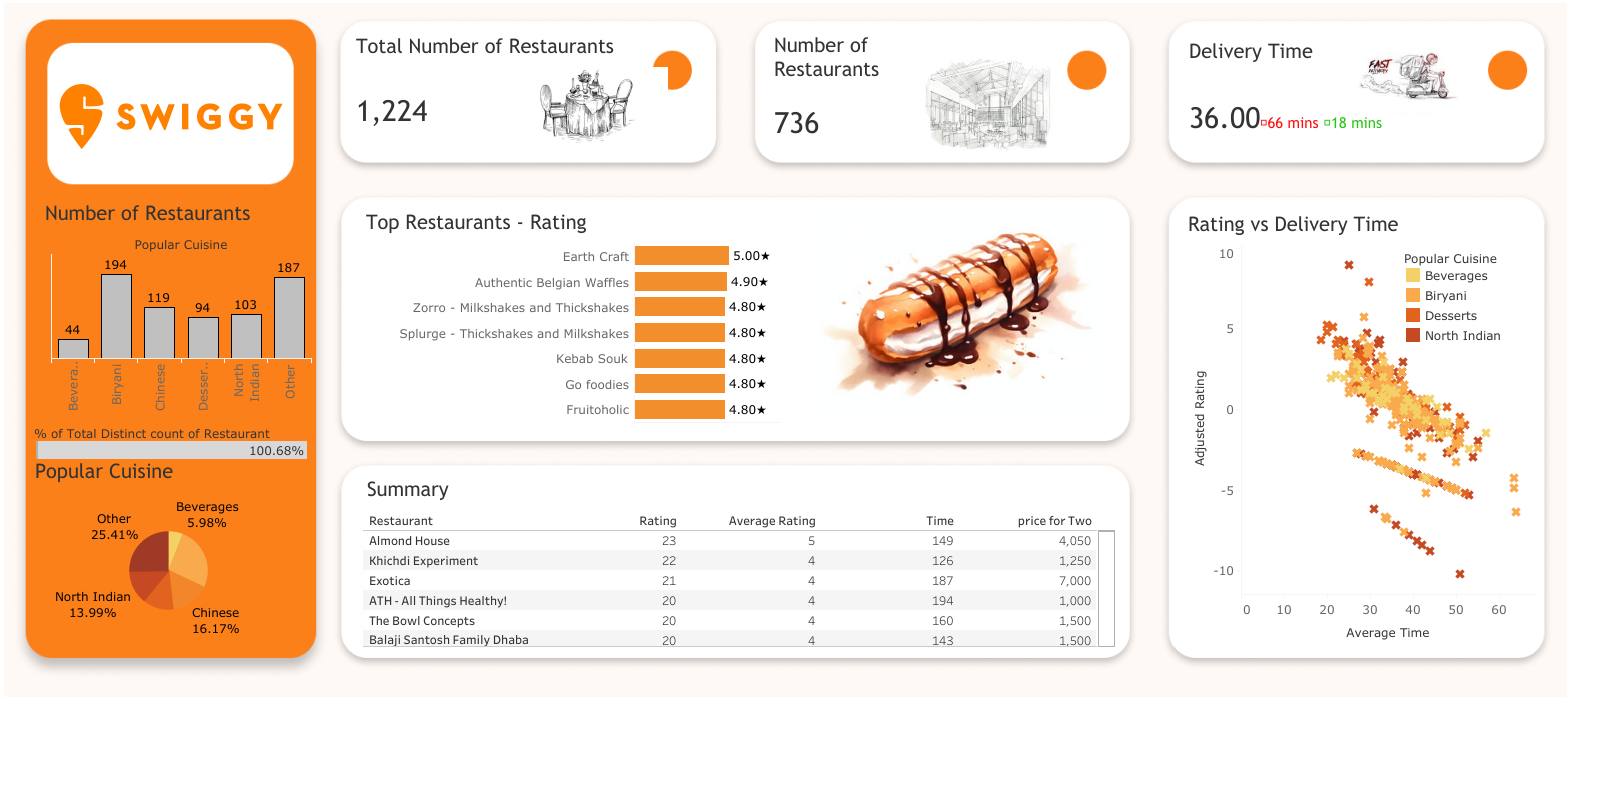

This screenshot's page, from the dashboard's own definition file:
{"tool":"tableau","page":{"name":"Dashboard 2","canvas":[1000,1000],"units":"permille","ordinal":1},"visuals":[{"type":"image","param":"Image/swiggy_db.png","box":[2.5,3.7,976.9,990.1]},{"type":"image","param":"Image/Swiggy.png","box":[15.6,23.5,184.4,240.7]},{"type":"worksheet","title":"Sheet 5","mark":"Automatic","box":[481.2,33.3,191.9,159.3]},{"type":"worksheet","title":"Sheet 6","mark":"Automatic","box":[220,34.6,196.9,156.8]},{"type":"worksheet","title":"Sheet 7","mark":"Automatic","box":[740.6,40.7,189.4,164.2]},{"type":"image","param":"Image/dm1.jpeg","box":[846.9,49.4,67.5,98.8]},{"type":"image","param":"Image/r3.jpg","box":[573.8,70.4,176.2,118.5]},{"type":"image","param":"Image/r2.jpg","box":[327.5,71.6,81.9,117.3]},{"type":"worksheet","title":"Number of Restaurants","mark":"Automatic","rows":["Restaurant"],"cols":["Calculation_1005147173059723267"],"box":[25.6,240.7,168.8,267.9]},{"type":"worksheet","title":"Top Restaurants - Rating","mark":"Bar","cols":["Calculation_1005147173054619648"],"box":[226.2,251.8,261.2,281.5]},{"type":"worksheet","title":"Rating vs Delivery Time","mark":"Automatic","rows":["Calculation_1005147173060898820"],"cols":["Calculation_1005147173054771201"],"box":[740,254.3,219.4,544.4]},{"type":"image","param":"Image/d2.jpg","box":[502.5,256.8,195,314.8]},{"type":"legend","title":"Rating vs Delivery Time","param":"[federated.0s04o9c04trdpm14tn7mk0asj3es].[none:Calculation_1005147173059723267:n","box":[876.9,306.2,82.5,145.7]},{"type":"legend","title":"Popular Cuisine Percentage","param":"[federated.0s04o9c04trdpm14tn7mk0asj3es].[pcto:ctd:Restaurant:qk]","box":[20.6,522.2,171.2,46.9]},{"type":"worksheet","title":"Popular Cuisine Percentage","mark":"Pie","box":[19.4,559.3,171.9,242]},{"type":"worksheet","title":"Sheet 8","mark":"Automatic","rows":["Restaurant"],"box":[226.9,581.5,470,217.3]}]}

Visuals, with their boxes on the dashboard's canvas, which has no fixed pixel size, in thousandths of its width and height (x1, y1, x2, y2). These are canvas units, not pixel positions in the 1599x809 screenshot, which may show the page scaled, cropped or inside an application window:
image: [x1=2, y1=4, x2=979, y2=994]
image: [x1=16, y1=24, x2=200, y2=264]
"Sheet 5" worksheet: [x1=481, y1=33, x2=673, y2=193]
"Sheet 6" worksheet: [x1=220, y1=35, x2=417, y2=191]
"Sheet 7" worksheet: [x1=741, y1=41, x2=930, y2=205]
image: [x1=847, y1=49, x2=914, y2=148]
image: [x1=574, y1=70, x2=750, y2=189]
image: [x1=328, y1=72, x2=409, y2=189]
"Number of Restaurants" worksheet: [x1=26, y1=241, x2=194, y2=509]
"Top Restaurants - Rating" worksheet (Bar marks): [x1=226, y1=252, x2=487, y2=533]
"Rating vs Delivery Time" worksheet: [x1=740, y1=254, x2=959, y2=799]
image: [x1=502, y1=257, x2=698, y2=572]
"Rating vs Delivery Time" legend: [x1=877, y1=306, x2=959, y2=452]
"Popular Cuisine Percentage" legend: [x1=21, y1=522, x2=192, y2=569]
"Popular Cuisine Percentage" worksheet (Pie marks): [x1=19, y1=559, x2=191, y2=801]
"Sheet 8" worksheet: [x1=227, y1=582, x2=697, y2=799]
